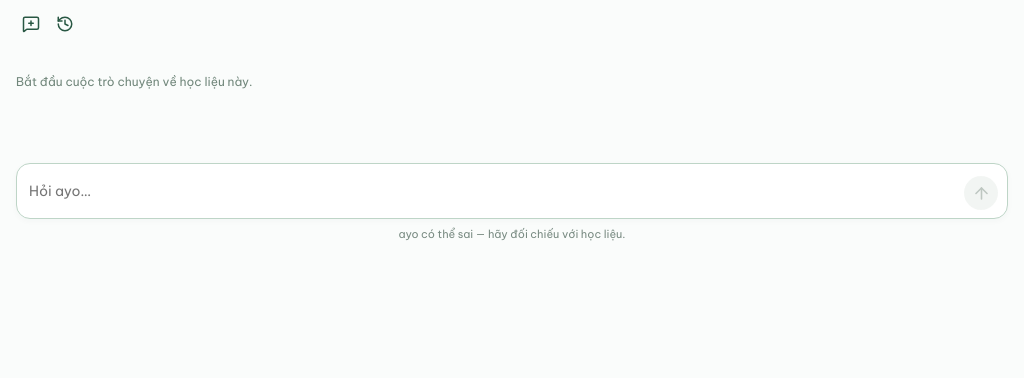
Test: retries an uncertain network outcome with the original idempotency key
Type "Đừng tạo lượt trùng" into the text box at [492, 191], box x1=29 y1=175 x2=956 y2=207
Then press Enter
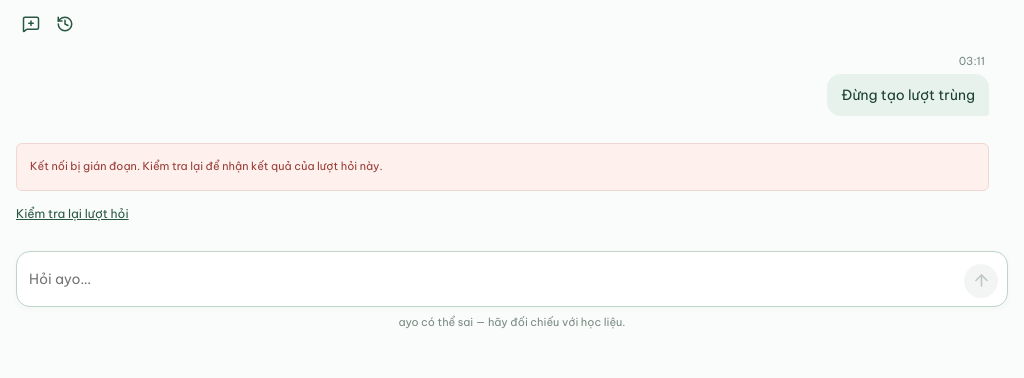
Click the button "Kiểm tra lại lượt hỏi" at [72, 213], box x1=16 y1=202 x2=129 y2=225
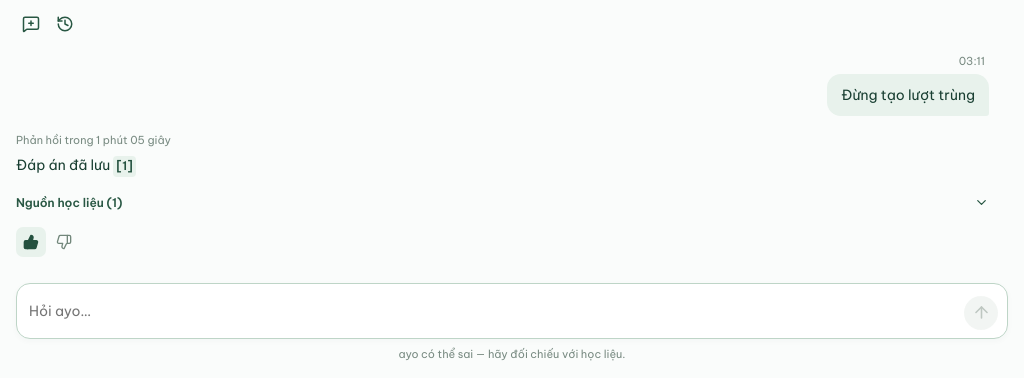
Check: the number of elements with class "ai-user-message" is 1, box x1=827 y1=74 x2=989 y2=116
Check: the button named "Trích dẫn [1]" is shown, box x1=113 y1=156 x2=136 y2=177
